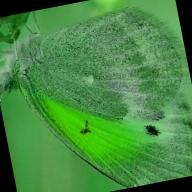butterfly: (0, 3, 192, 188)
